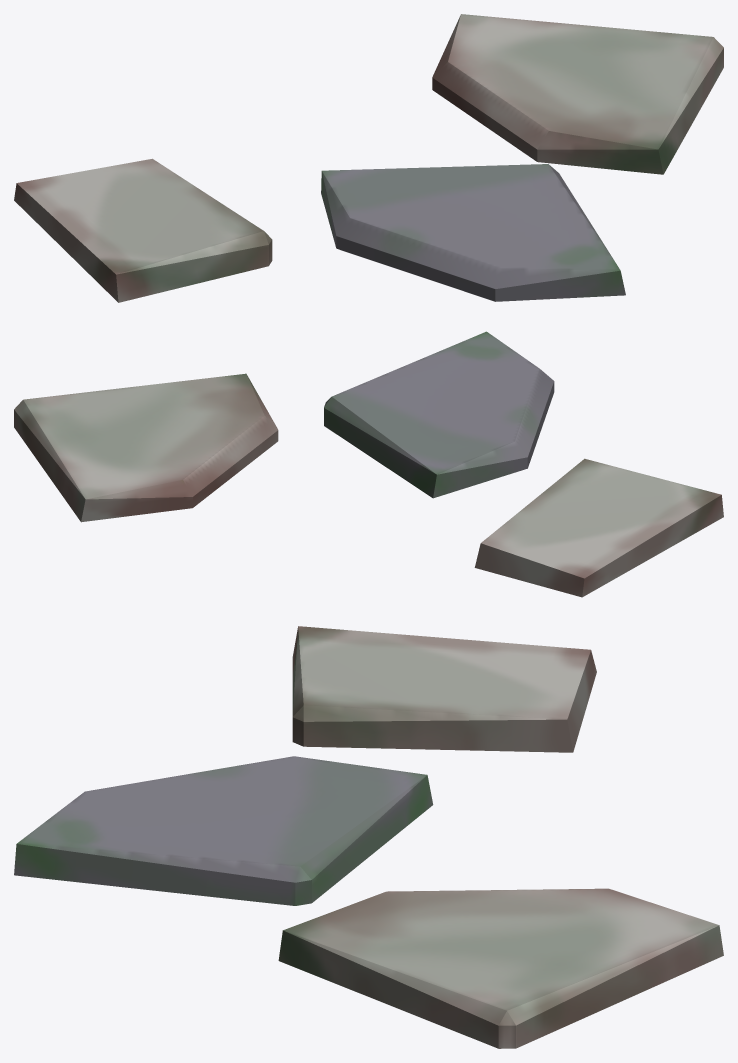
Rendered from PrimeraSlum_Floor_Var02.fbx.
3 renders of one model, top to bottom at view 1: azimuth 30°, elevation 25°; view 2: azimuth 150°, elevation 25°; view 3: azimuth 270°, elevation 25°, orthographic. The views are drawn at different scales.
Parts seen in each view (by area): view 1: PrimeraSlum_Floor_Var02; view 2: PrimeraSlum_Floor_Var02; view 3: PrimeraSlum_Floor_Var02.
Part boxes in pixels (box(x1,y1,x2,y2)): PrimeraSlum_Floor_Var02: box(14, 14, 723, 302); PrimeraSlum_Floor_Var02: box(14, 331, 723, 597); PrimeraSlum_Floor_Var02: box(14, 626, 723, 1048).
Size of the model in its own units: 843 by 44.06 by 643.
